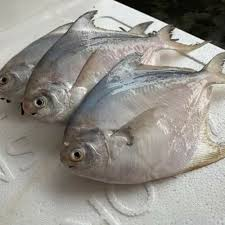Ikan Bawal: (56, 55, 225, 184), (21, 11, 196, 119)
